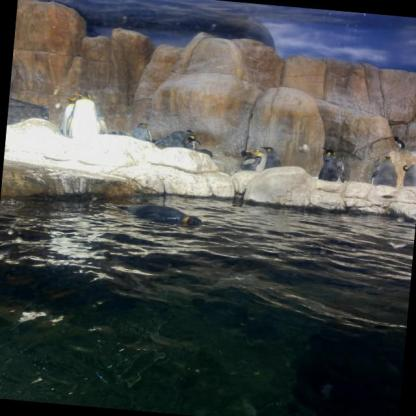penguin: (114, 201, 206, 230), (65, 91, 112, 141), (317, 147, 347, 183), (370, 154, 399, 186), (61, 95, 83, 136), (164, 127, 193, 150), (258, 146, 283, 169), (131, 122, 153, 144), (250, 148, 267, 173), (400, 162, 415, 188), (181, 134, 201, 152), (153, 133, 173, 150), (240, 148, 255, 170)
